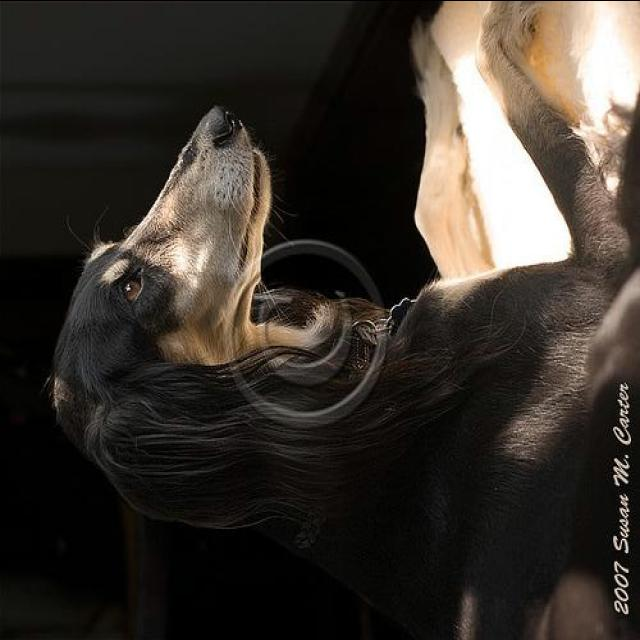saluki: (47, 6, 634, 640)
